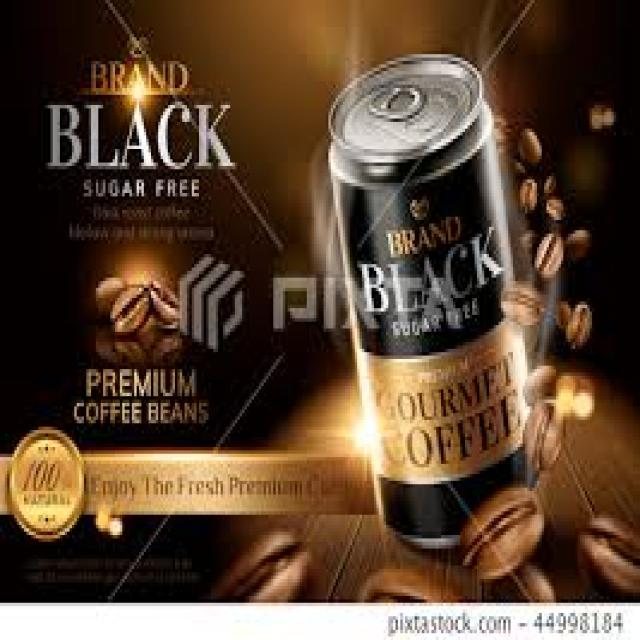Cans: (321, 41, 547, 558)
